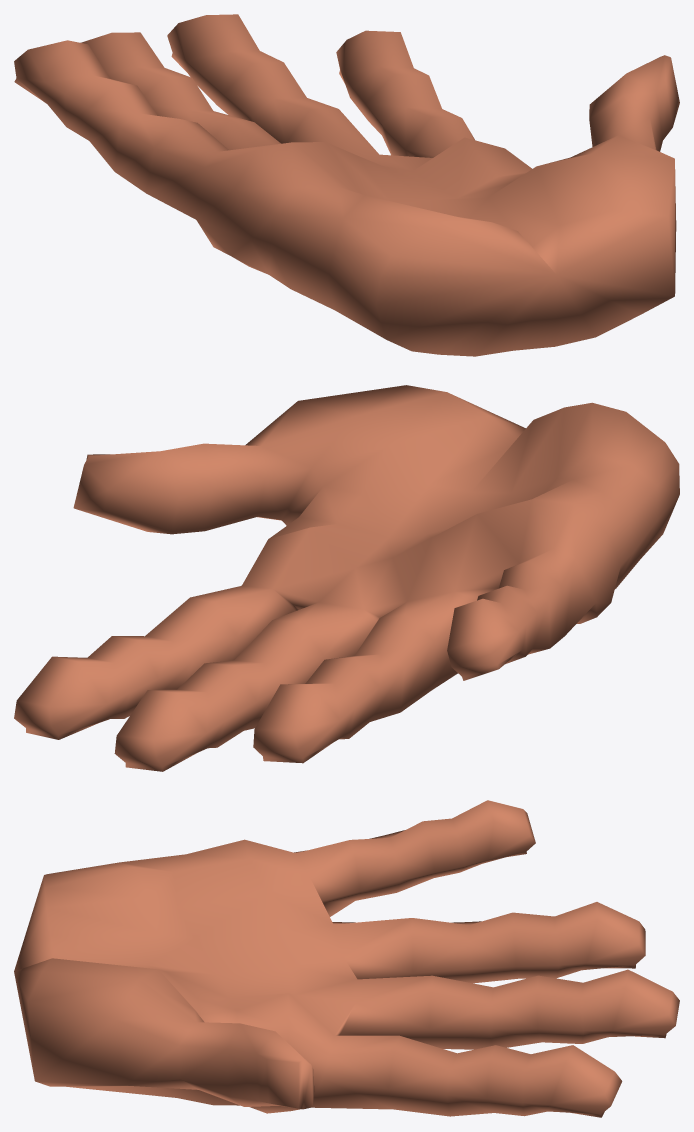
Rendered from hand_right.dae.
3 renders of one model, top to bottom at view 1: azimuth 30°, elevation 25°; view 2: azimuth 150°, elevation 25°; view 3: azimuth 270°, elevation 25°, orthographic. The views are drawn at different scales.
Parts seen in each view (by area): view 1: base_hand_o; view 2: base_hand_o; view 3: base_hand_o.
Boxes of the visible parts, left/top/right/bottom form: base_hand_o: left=14, top=14, right=679, bottom=356; base_hand_o: left=14, top=385, right=679, bottom=771; base_hand_o: left=14, top=800, right=679, bottom=1117.
Size of the model in its own units: 1.57 by 1.93 by 0.5785.
